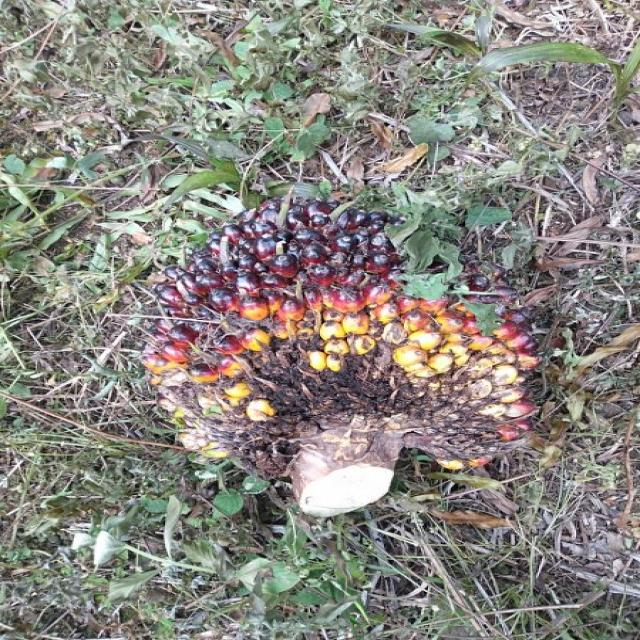fraksi 00: (87, 127, 567, 515)
